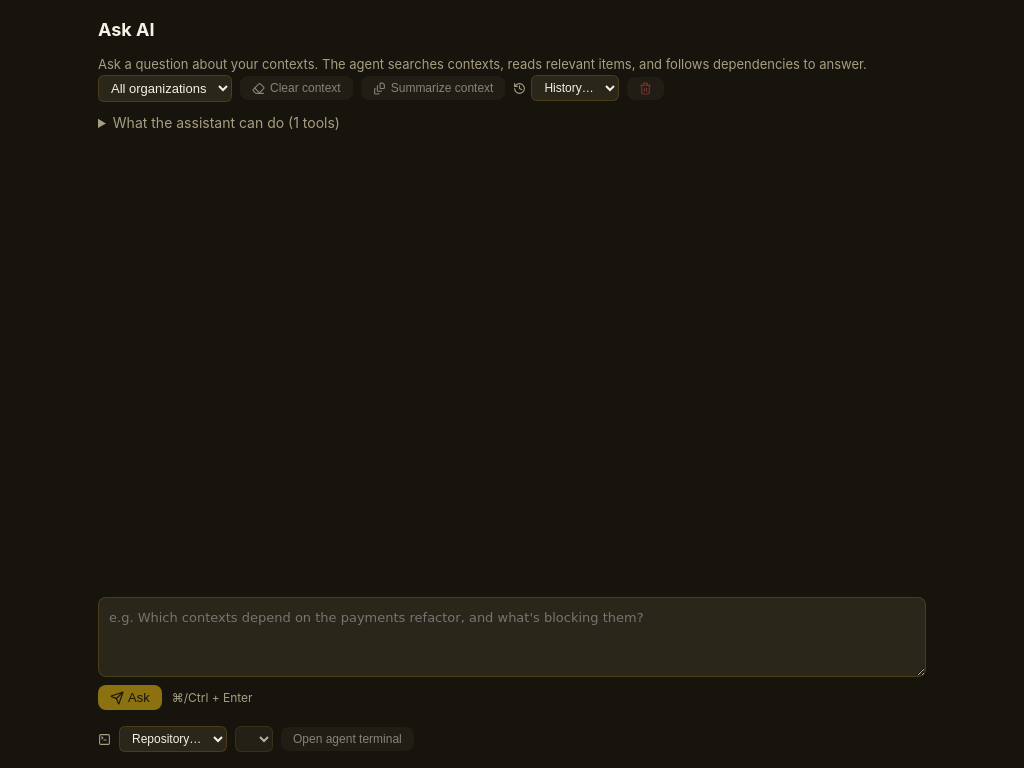
Scenario: AskAIPage multi-turn chat log › grows the log across turns and sends prior history on the second ask
Type "question one" into the text box.
click(512, 637); type("question one")  # box [98,596,926,677]
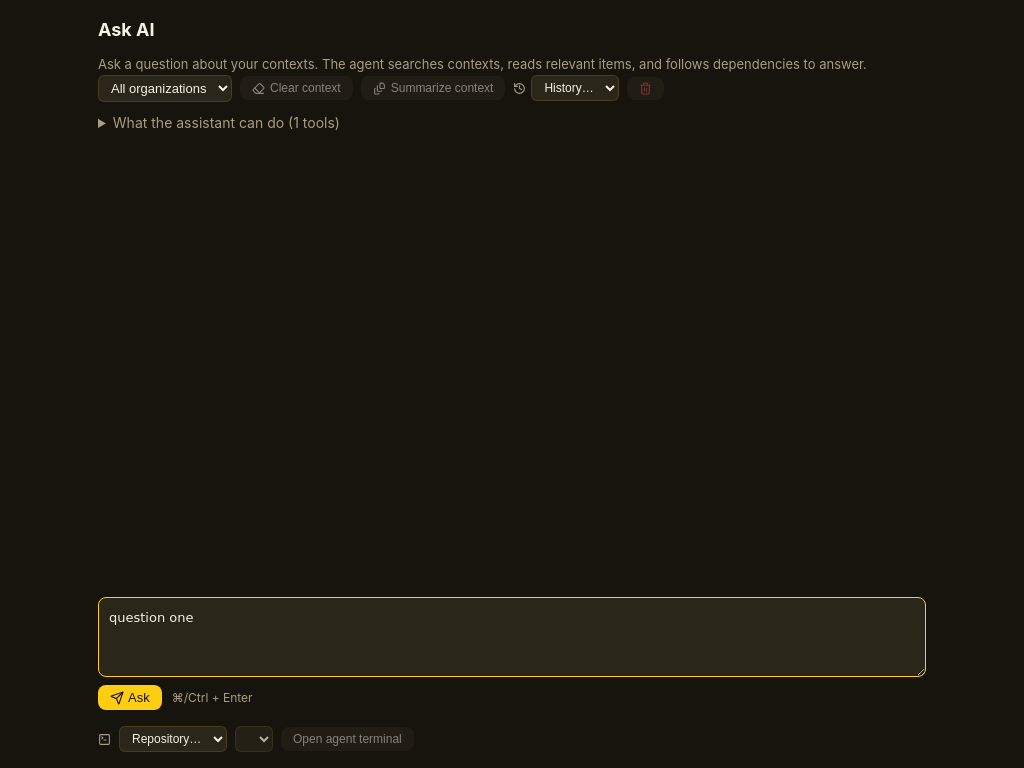
Click the button "Ask".
click(130, 698)  # box [98,685,162,710]
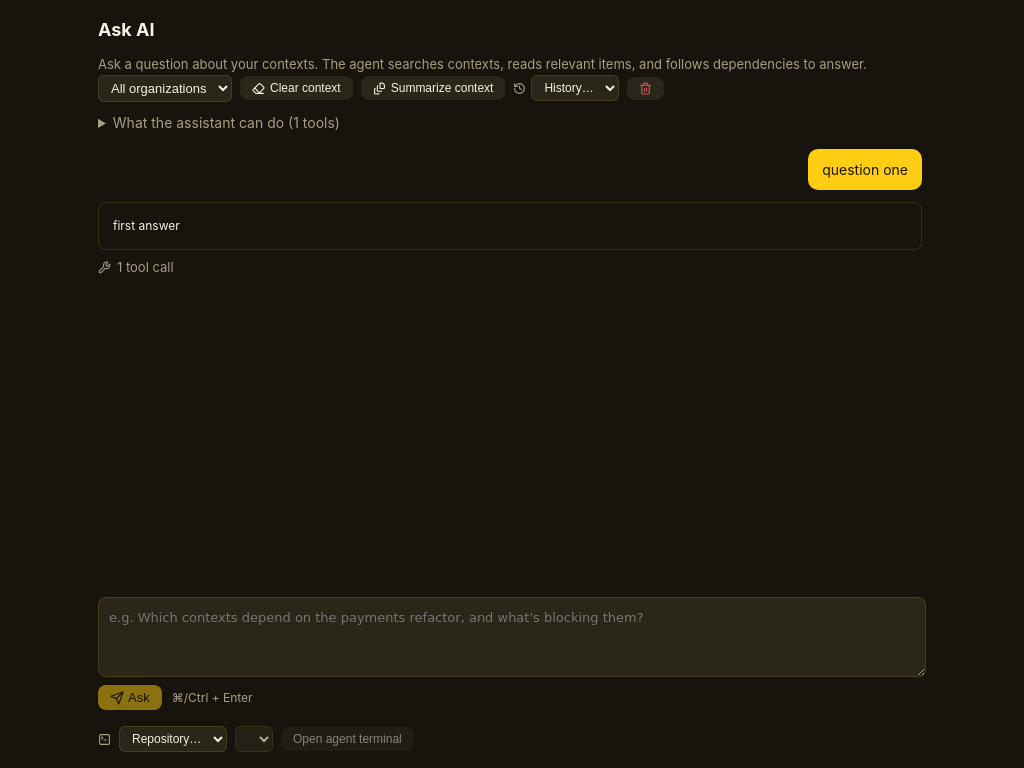
Now the text "first answer" is shown, box [113,218,180,232]
Type "question two" into the text box.
click(512, 637); type("question two")  # box [98,596,926,677]
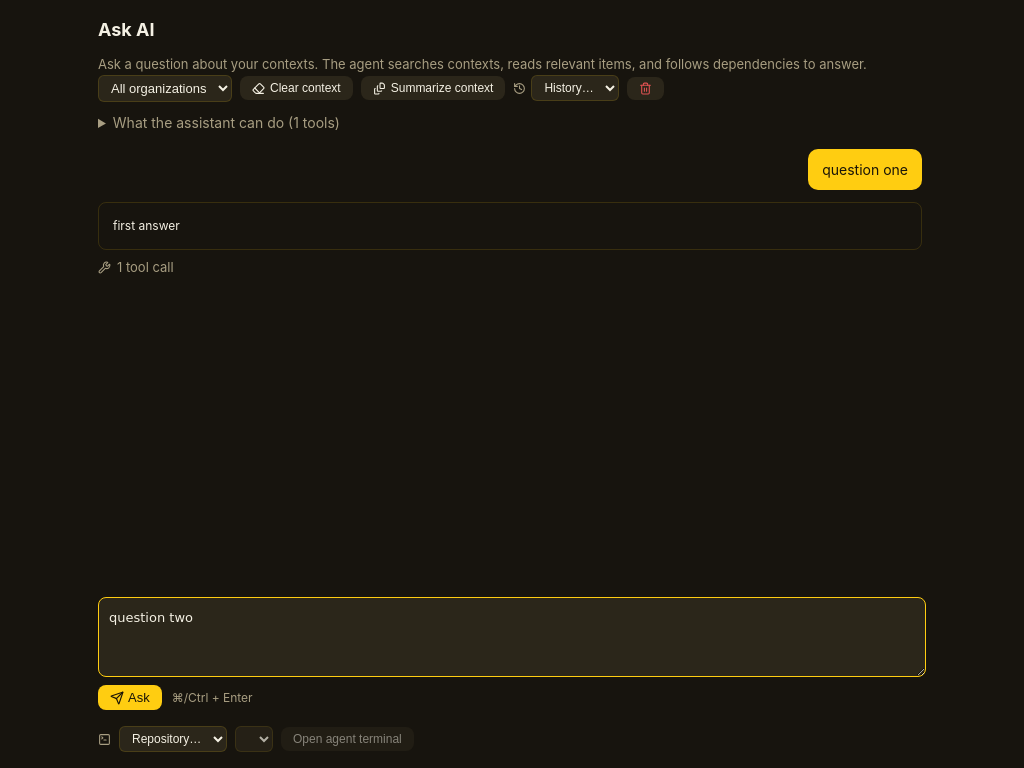
Click the button "Ask".
click(130, 698)  # box [98,685,162,710]
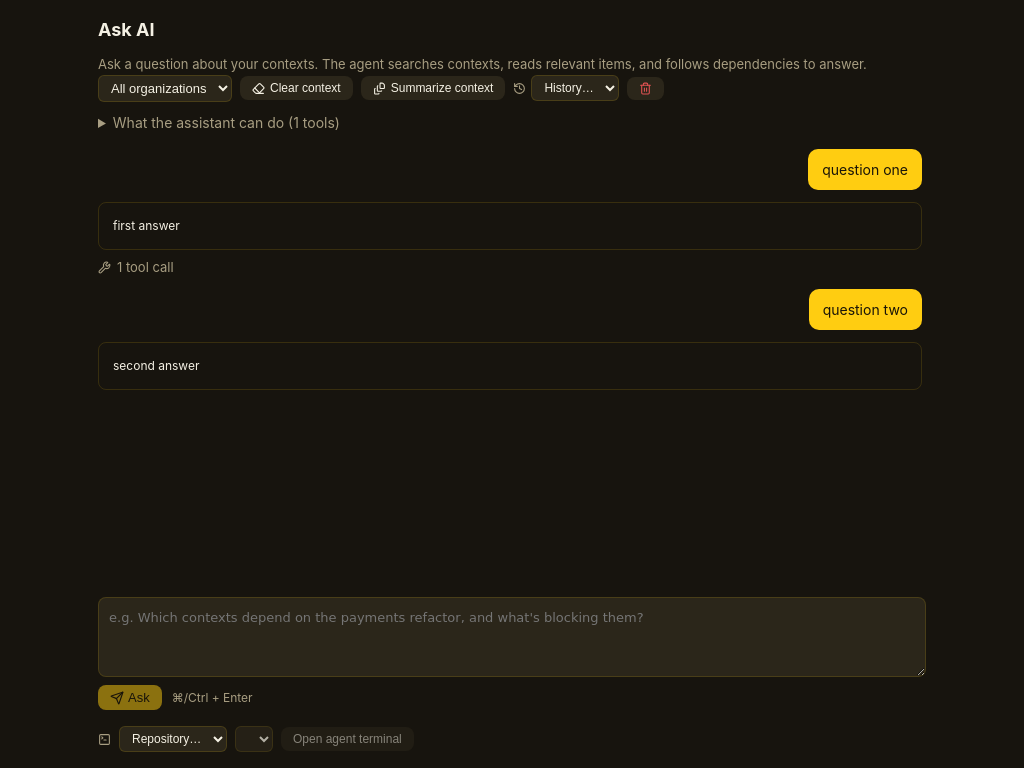
Now the text "question one" is shown, box [808,148,922,190]
Now the text "first answer" is shown, box [113,218,180,232]
Now the text "question two" is shown, box [809,289,922,330]
